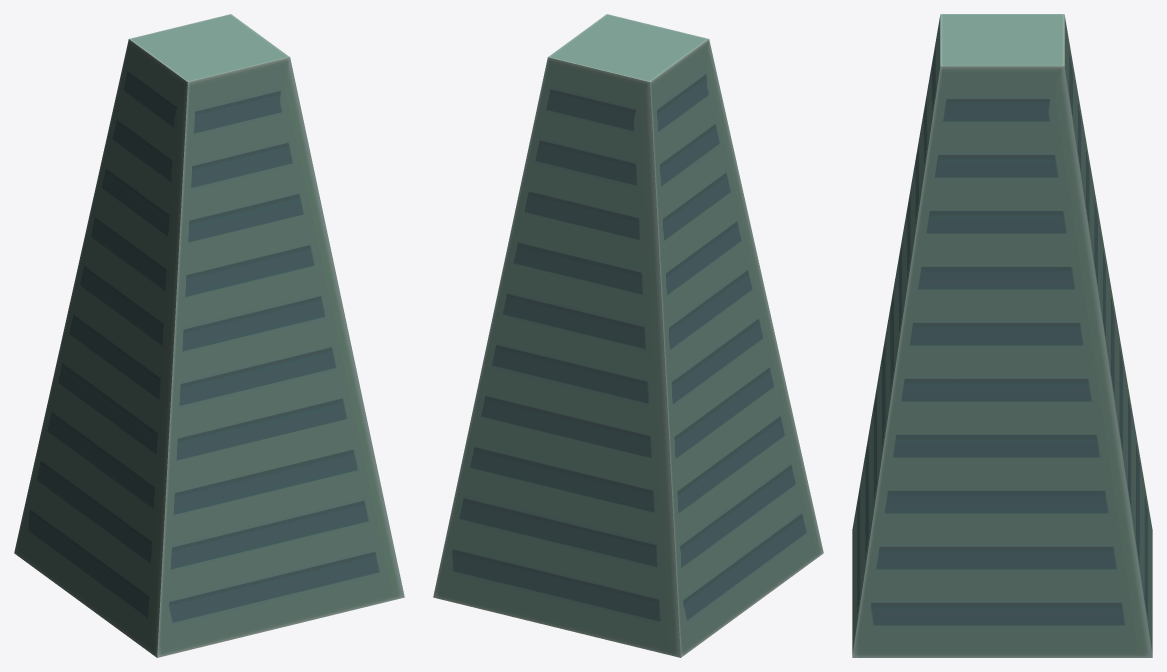
File: Skyscraper_B.fbx
3 views of the same model, side by side, from view 1: azimuth 30°, elevation 25°; view 2: azimuth 150°, elevation 25°; view 3: azimuth 270°, elevation 25° (orthographic). The views are drawn at different scales.
Visible parts, largest first — view 1: Skyscraper_B; view 2: Skyscraper_B; view 3: Skyscraper_B.
Part boxes in pixels (<box>): Skyscraper_B: <box>14,14,404,657</box>; Skyscraper_B: <box>433,14,823,657</box>; Skyscraper_B: <box>852,14,1152,657</box>.
Bounding box in the file's own units: 0.5365 × 1.09 × 0.5365.
1 material, 1 textured.
